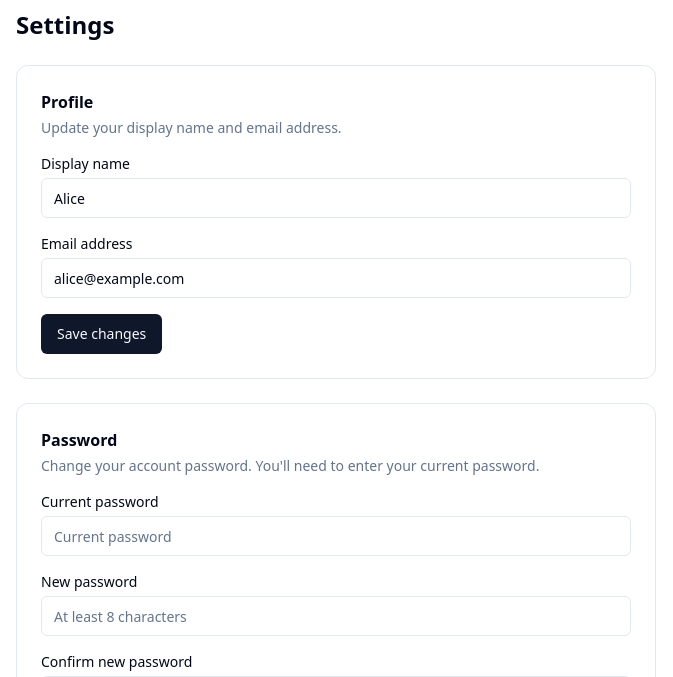
Scenario: SettingsPage � profile form › shows success message after successful profile save
What coordinates should you click on to do the following:
click the button "Save changes"
I would click on:
 (102, 334)
Its box is x1=41 y1=314 x2=162 y2=354.
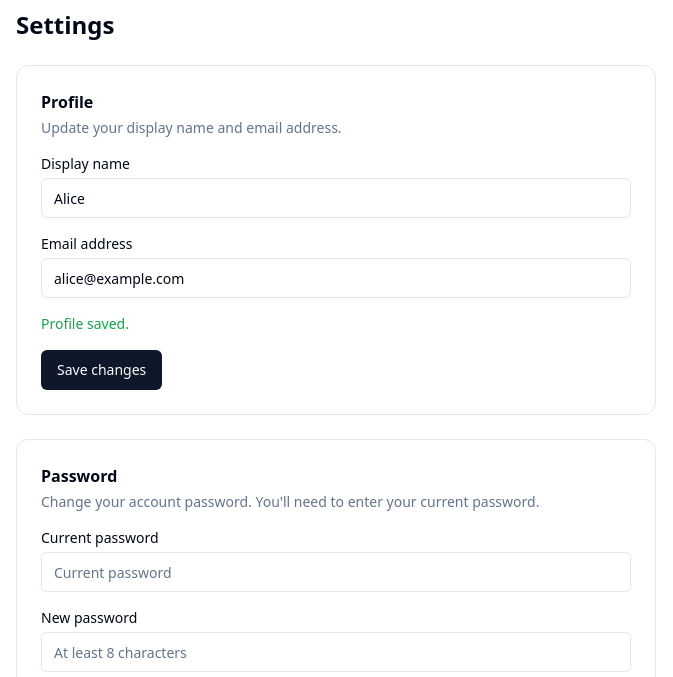
Result: the text "Profile saved." is shown at x1=41 y1=314 x2=129 y2=333
